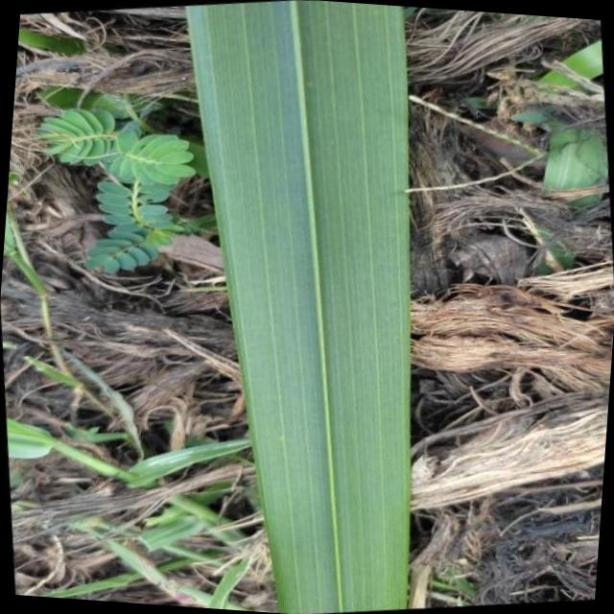Healthy: (187, 0, 411, 614)
